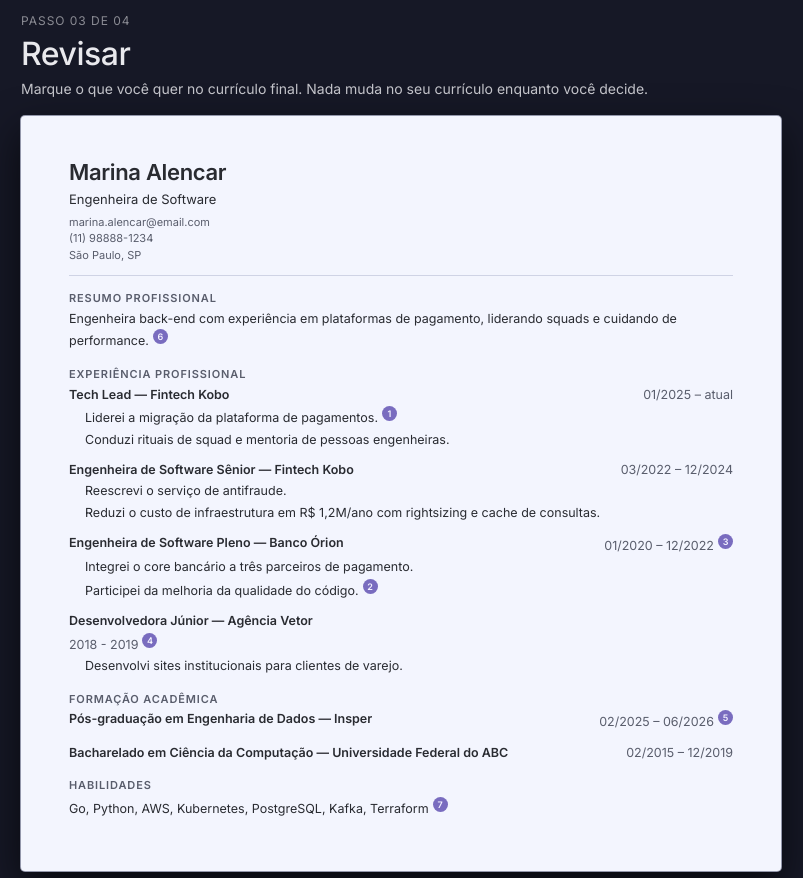
Test: Foco e navegação entre marcador e cartão › O resumo do marcador traz o essencial
Hover over the element showing "1" at (390, 414), box x1=382 y1=406 x2=397 y2=421
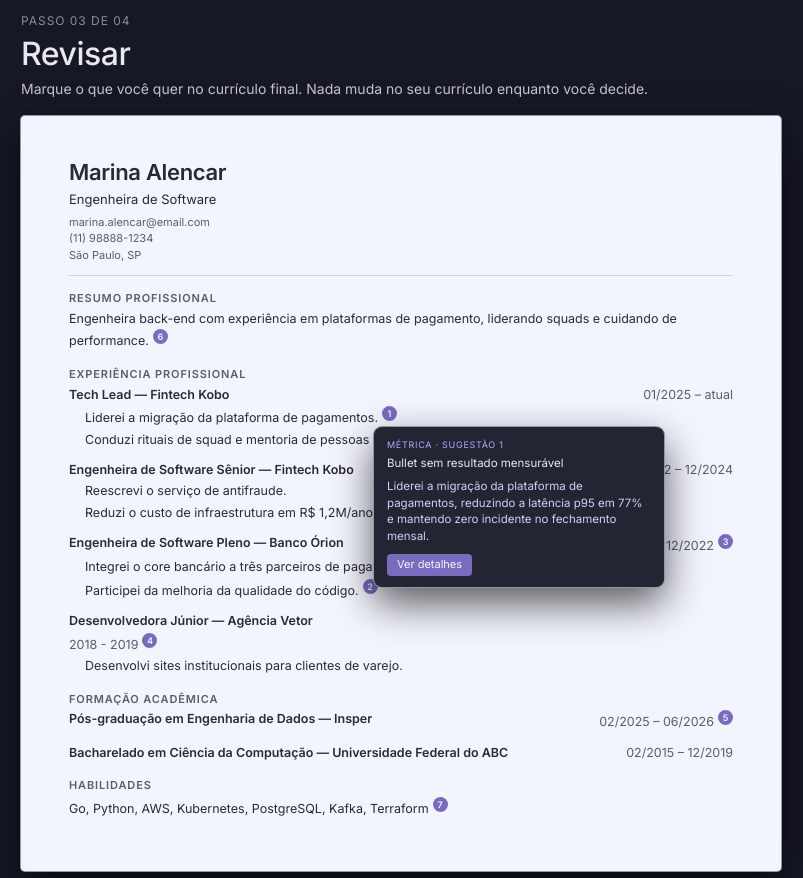
Expected: the tooltip shows "Bullet sem resultado mensurável", x1=387 y1=456 x2=564 y2=470
Expected: the tooltip shows "Liderei a migração da plataforma de pagamentos, reduzindo a latência p95 em 77% e mantendo zero incidente no fechamento mensal.", x1=387 y1=479 x2=643 y2=543
Expected: the tooltip shows "Métrica", x1=387 y1=439 x2=432 y2=450
